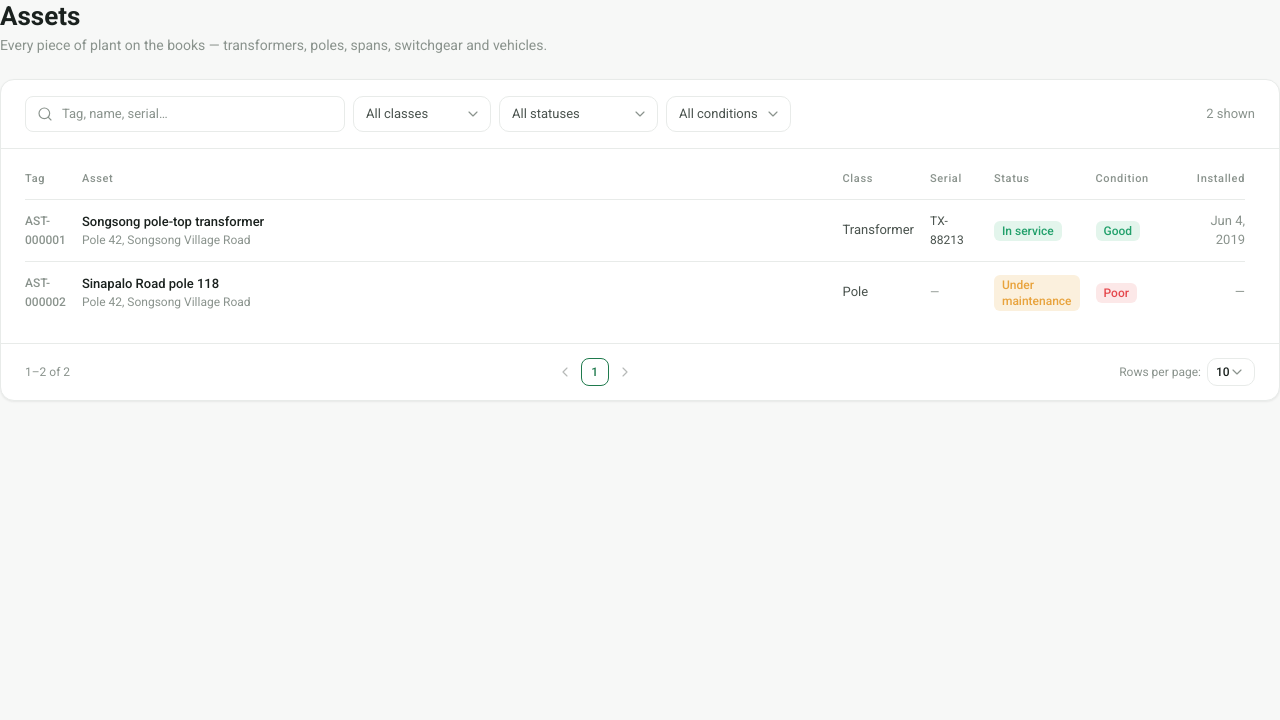
Scenario: AssetsPage › describes each kind of history line
Expected: the text "Songsong pole-top transformer" is shown, [82,214,264,229]
Step 1. Click the button "Songsong pole-top transformer Pole 42, Songsong Village Road" → (173, 222), box [82,213,826,248]
(page scrolled)
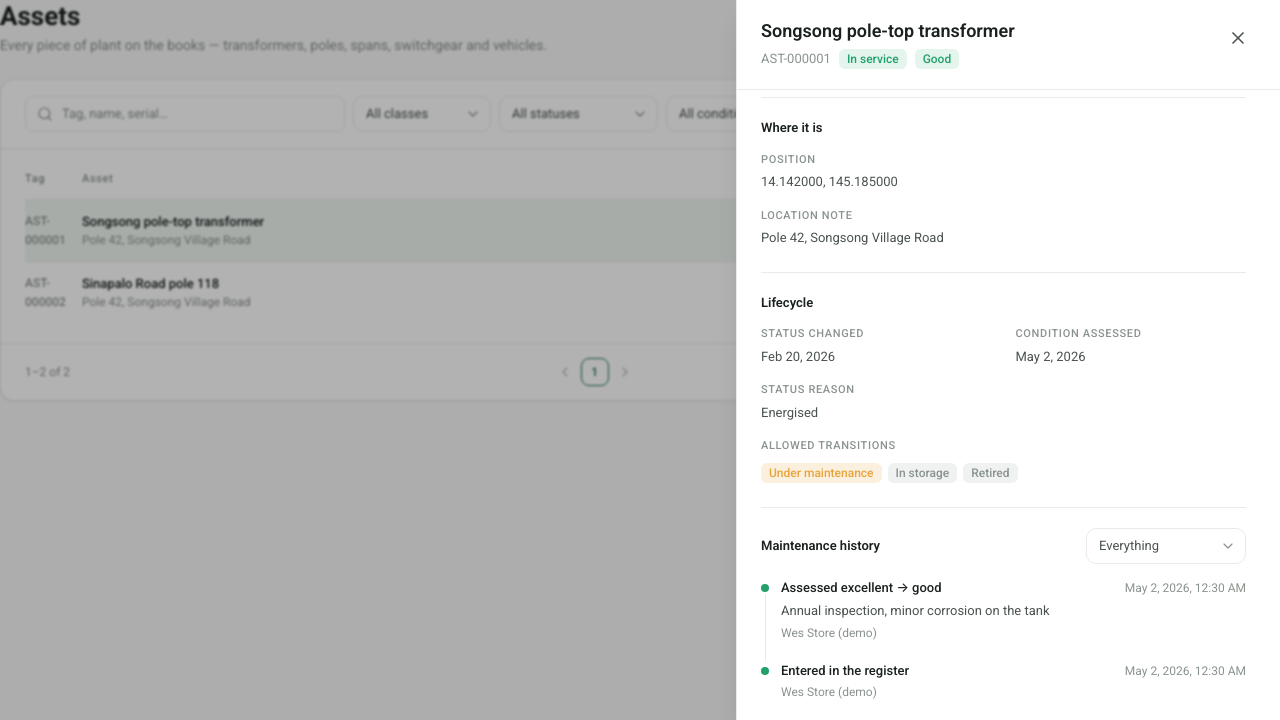
Now the text "Entered in the register" is shown, box [781,660,909,680]
Now the text "Assessed excellent → good" is shown, box [781,578,942,597]
